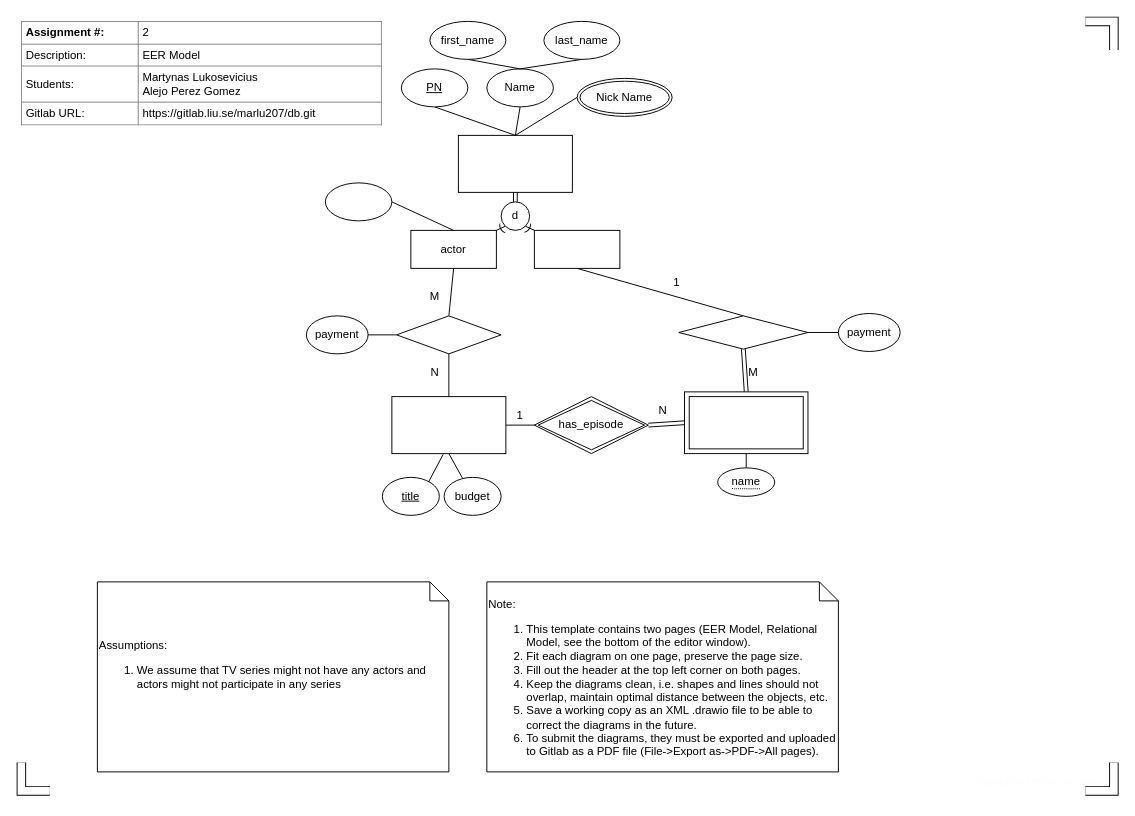
Image size: 1135x816. Some labels were removed from this diagram. The box of each missing label's shape, as (x1, y1, x2, y2) in pixels:
directed: (678, 315, 808, 349)
director: (533, 229, 620, 268)
Episode: (684, 391, 808, 454)
participate: (396, 315, 501, 354)
Person: (457, 134, 572, 192)
rating: (324, 182, 392, 221)
TV SERIES: (391, 396, 506, 454)
